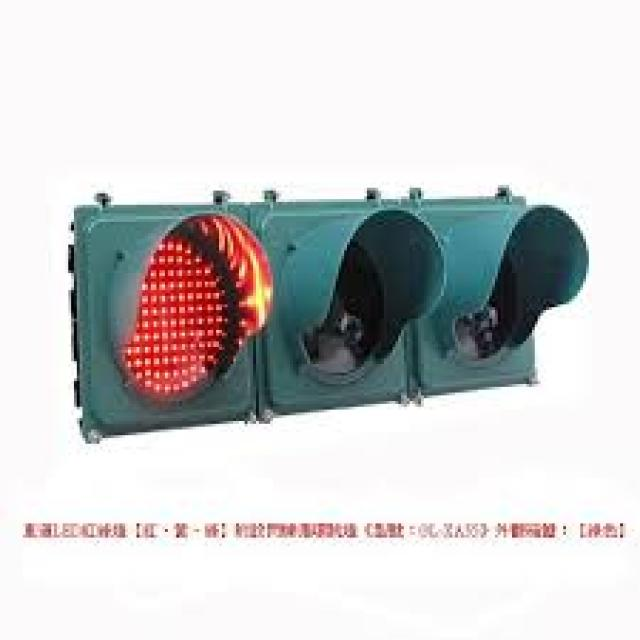red: (129, 232, 266, 393)
